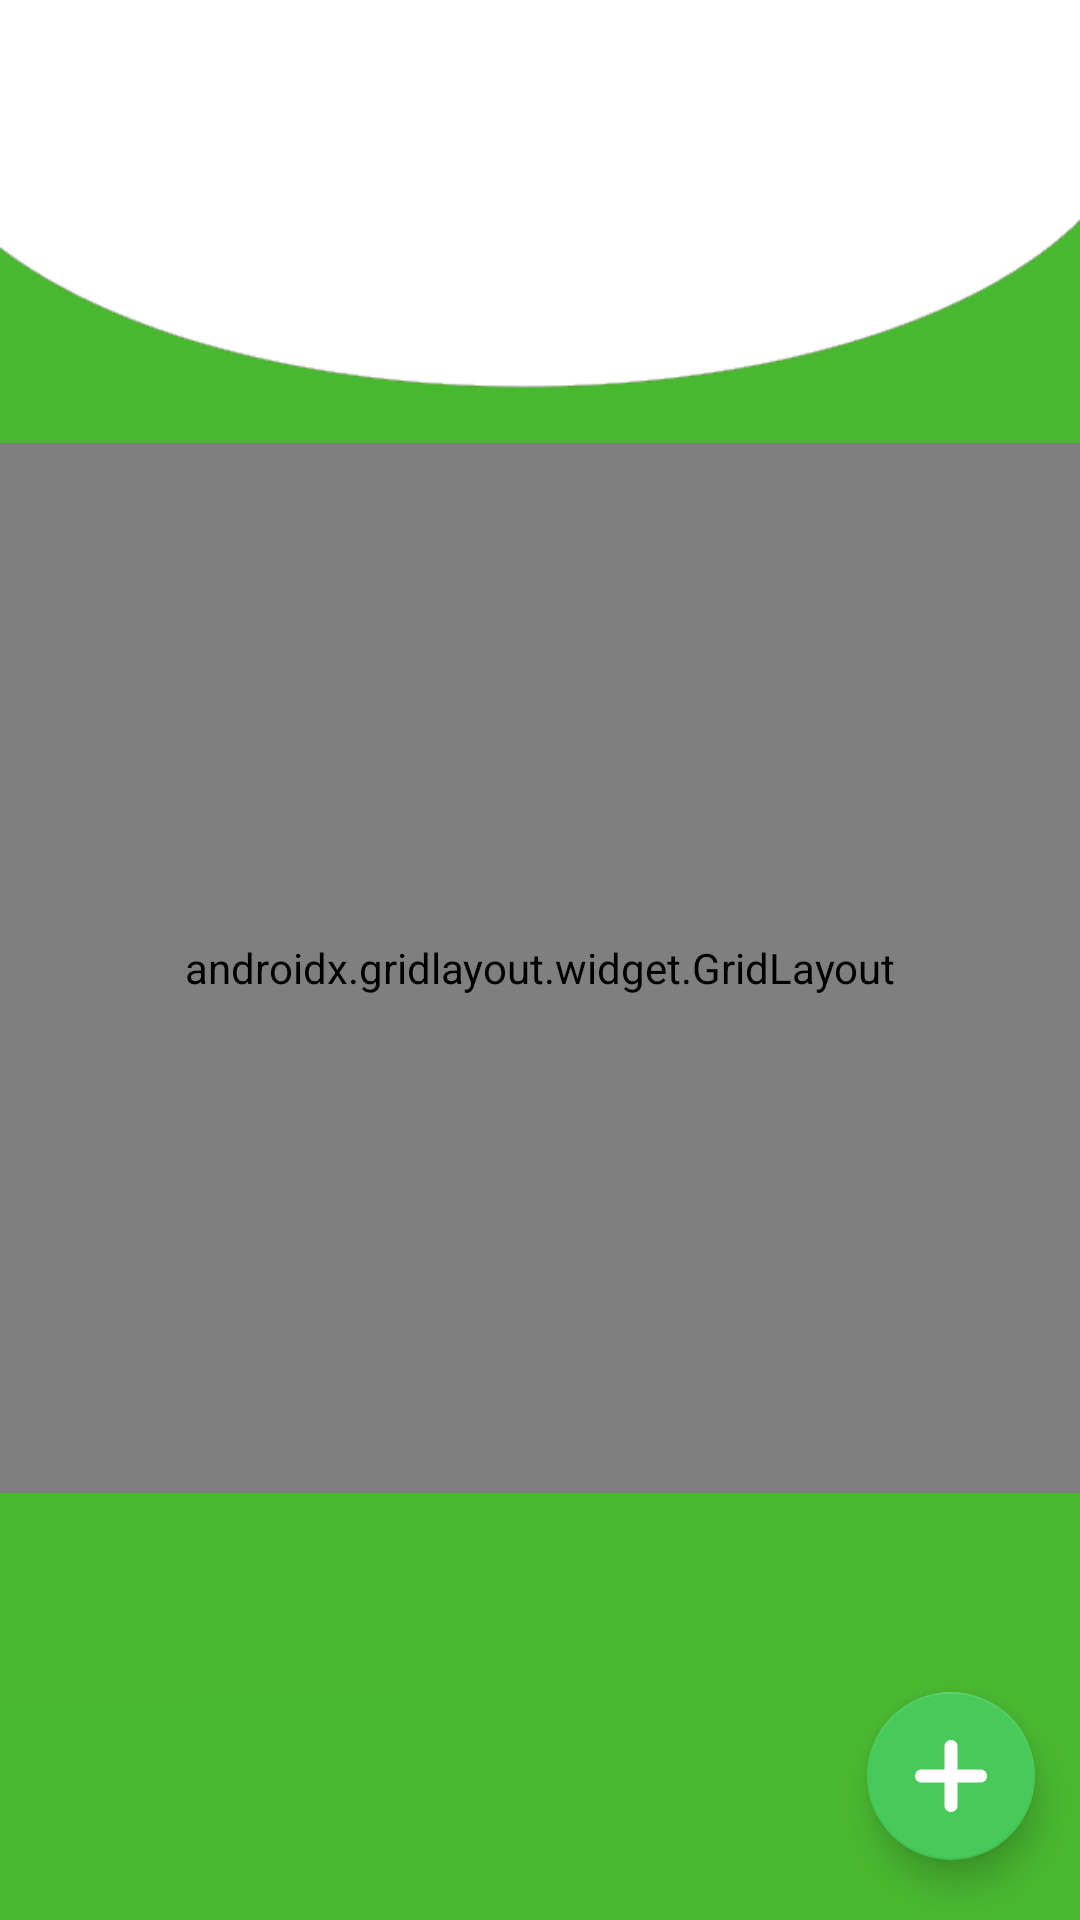

Icons on this 1080 × 1920 Android screen, each with its box as (x1, y1, x2, y2):
fab plus: (867, 1692, 1035, 1860)
